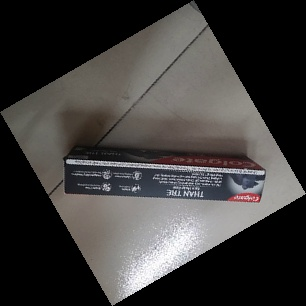Colgate Than: (63, 144, 266, 206)
